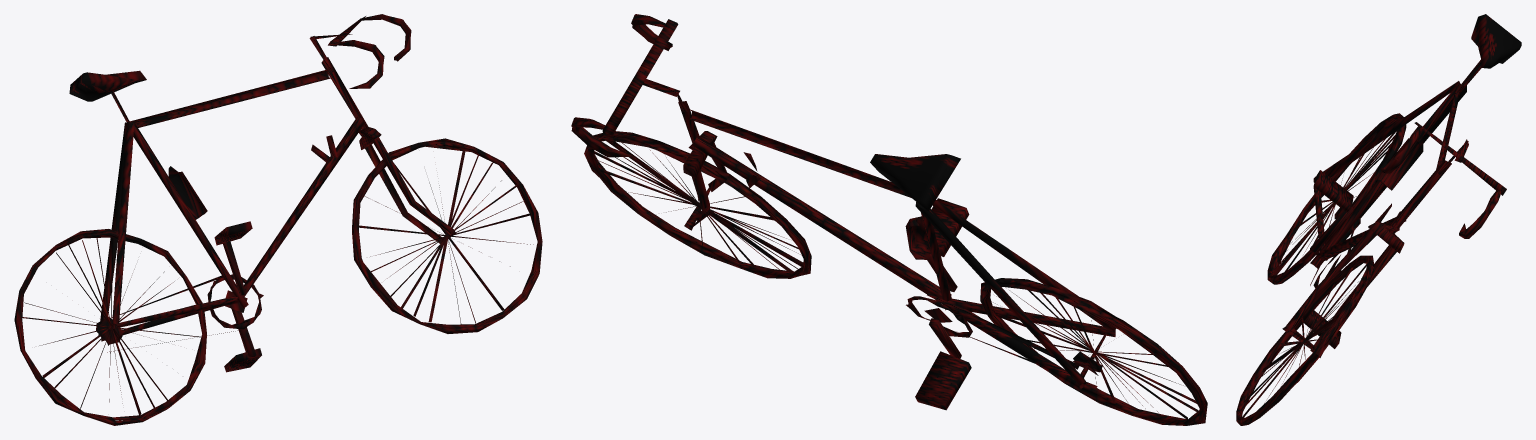
File: bike.obj
3 views of the same model, side by side, from view 1: azimuth 30°, elevation 25°; view 2: azimuth 150°, elevation 25°; view 3: azimuth 270°, elevation 25° (orthographic). The views are drawn at different scales.
Visible parts, largest first — view 1: Group; view 2: Group; view 3: Group.
Boxes of the visible parts, x1=… form: Group: x1=14, y1=14, x2=542, y2=425; Group: x1=571, y1=14, x2=1207, y2=425; Group: x1=1236, y1=14, x2=1521, y2=425.
Bounding box in the file's own units: 195 × 108 × 91.47.
